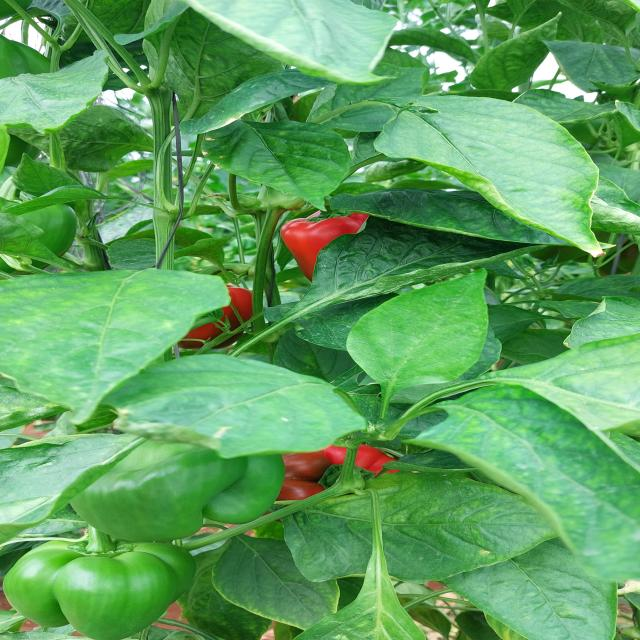Green--Not-ready-to-harvest: (59, 414, 292, 538), (12, 543, 184, 624)
Red-Ready-to-Harvest: (270, 214, 386, 284), (170, 270, 250, 345)
